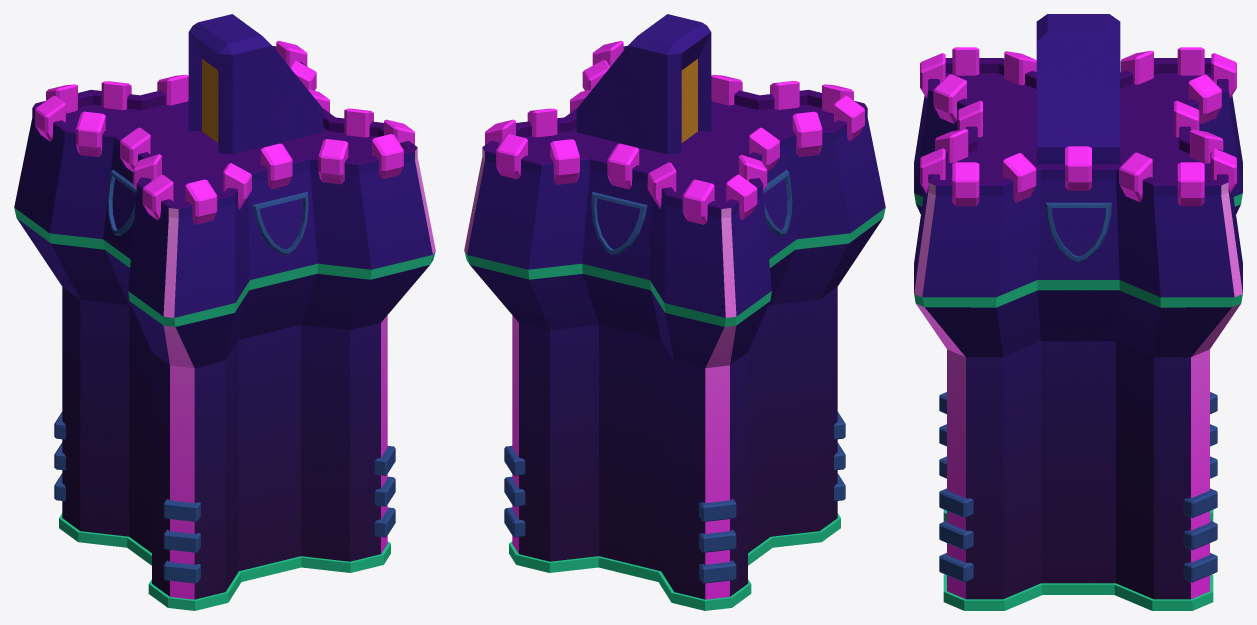
The model's file is Tower1_small.fbx.
3 views of the same model, side by side, from view 1: azimuth 30°, elevation 25°; view 2: azimuth 150°, elevation 25°; view 3: azimuth 270°, elevation 25° (orthographic). The views are drawn at different scales.
Parts seen in each view (by area): view 1: Tower1_small; view 2: Tower1_small; view 3: Tower1_small.
Boxes of the visible parts, box(x1,y1,x2,y2) form: Tower1_small: box(14, 14, 435, 610); Tower1_small: box(464, 14, 885, 610); Tower1_small: box(914, 14, 1242, 610).
Bounding box in the file's own units: 276 × 495 × 276.
